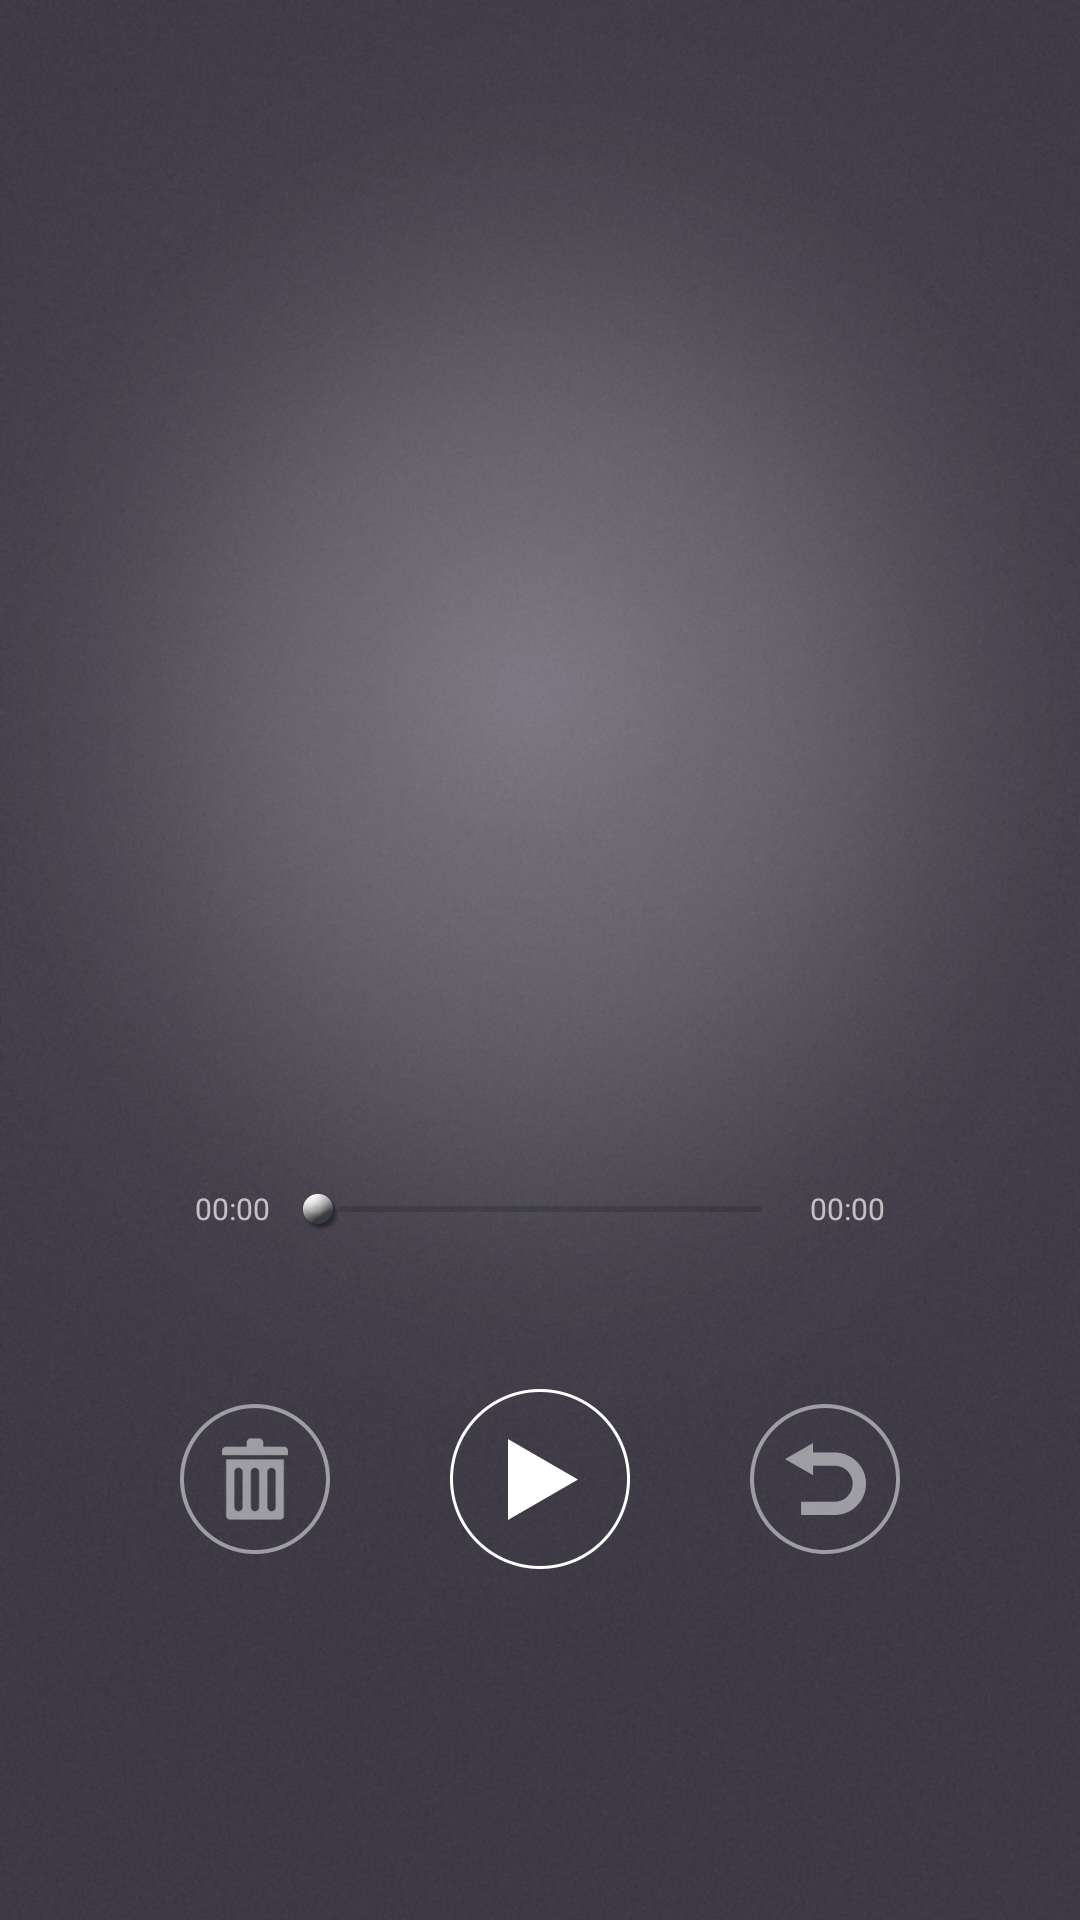

Icon bounding boxes for this 1080*1920 phone screenshot, format (x1, y1, x2, y2):
back: (750, 1404, 900, 1554)
delete on: (180, 1404, 330, 1554)
play: (450, 1389, 630, 1569)
